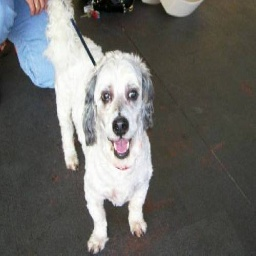dog: (47, 21, 159, 244)
